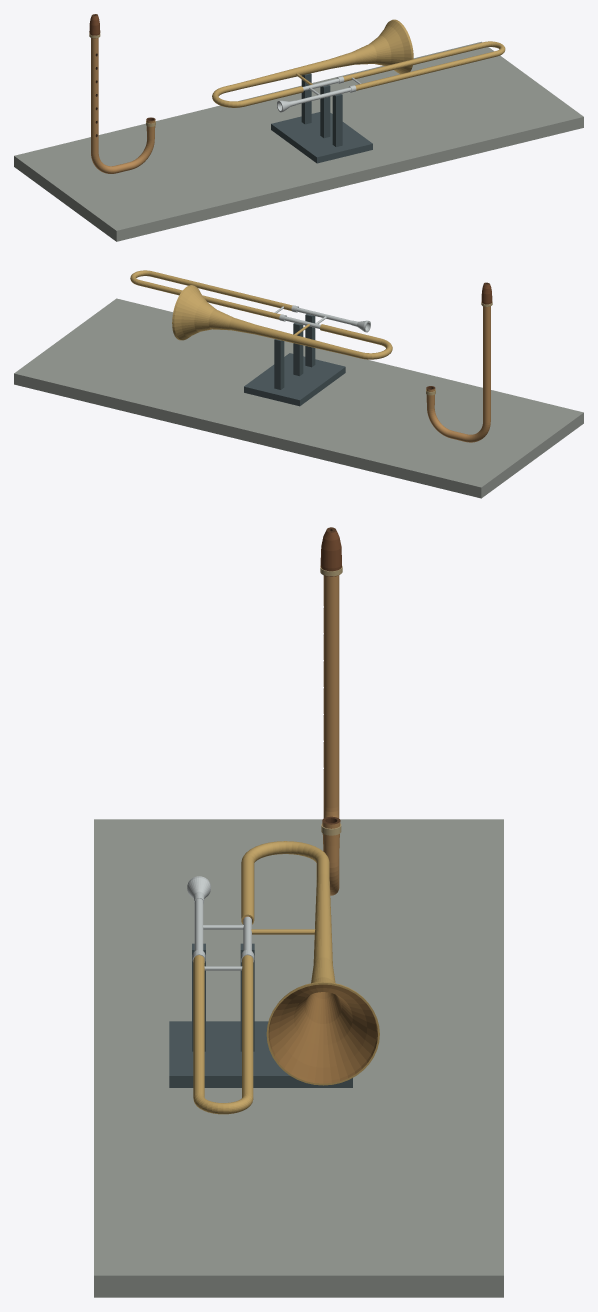
The picture shows the model from 3 angles, top to bottom: view 1: azimuth 30°, elevation 25°; view 2: azimuth 150°, elevation 25°; view 3: azimuth 270°, elevation 25°; orthographic projection. The views are drawn at different scales.
Parts seen in each view (by area): view 1: SCENE_ONLY__DisplayFloor, slide__WholeGroundedThreeSeatDisplayCarrier, slide__WholeRearReturnAndOpenExpandingBell, slide__WholeLongOuterTwinSlideAndReturnBow, crook__WholeContinuousSevenPortJBody; view 2: SCENE_ONLY__DisplayFloor, slide__WholeGroundedThreeSeatDisplayCarrier, slide__WholeRearReturnAndOpenExpandingBell, slide__WholeLongOuterTwinSlideAndReturnBow, crook__WholeContinuousSevenPortJBody; view 3: SCENE_ONLY__DisplayFloor, slide__WholeRearReturnAndOpenExpandingBell, slide__WholeGroundedThreeSeatDisplayCarrier, crook__WholeContinuousSevenPortJBody, slide__WholeLongOuterTwinSlideAndReturnBow.
Part boxes in pixels (x1,y1,x2,y2): SCENE_ONLY__DisplayFloor: (14, 41, 583, 241); slide__WholeGroundedThreeSeatDisplayCarrier: (271, 73, 372, 163); slide__WholeRearReturnAndOpenExpandingBell: (212, 19, 413, 107); slide__WholeLongOuterTwinSlideAndReturnBow: (343, 41, 505, 90); crook__WholeContinuousSevenPortJBody: (91, 38, 155, 173); SCENE_ONLY__DisplayFloor: (14, 298, 583, 498); slide__WholeGroundedThreeSeatDisplayCarrier: (244, 314, 345, 406); slide__WholeRearReturnAndOpenExpandingBell: (172, 285, 392, 359); slide__WholeLongOuterTwinSlideAndReturnBow: (130, 270, 292, 319); crook__WholeContinuousSevenPortJBody: (426, 306, 490, 442); SCENE_ONLY__DisplayFloor: (94, 819, 503, 1297); slide__WholeRearReturnAndOpenExpandingBell: (241, 841, 379, 1085); slide__WholeGroundedThreeSeatDisplayCarrier: (169, 943, 352, 1087); crook__WholeContinuousSevenPortJBody: (322, 575, 340, 895); slide__WholeLongOuterTwinSlideAndReturnBow: (193, 955, 253, 1114).
Size of the model in its own units: 2 by 0.7115 by 0.76.
